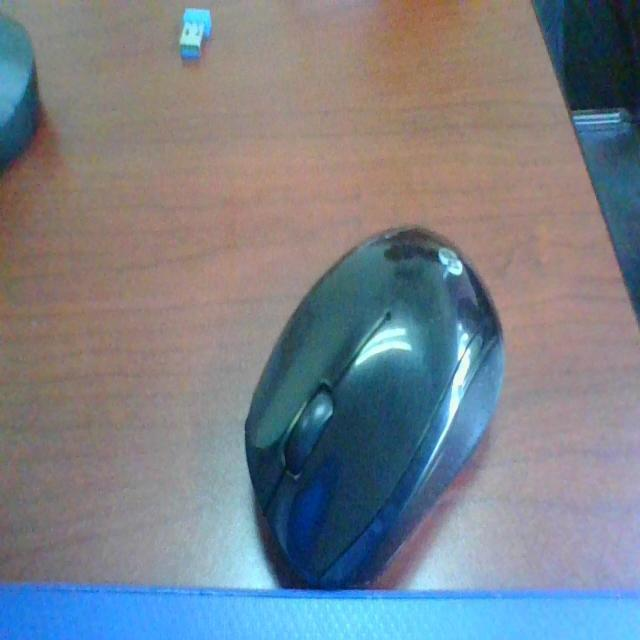Mouse: (237, 182, 566, 579)
